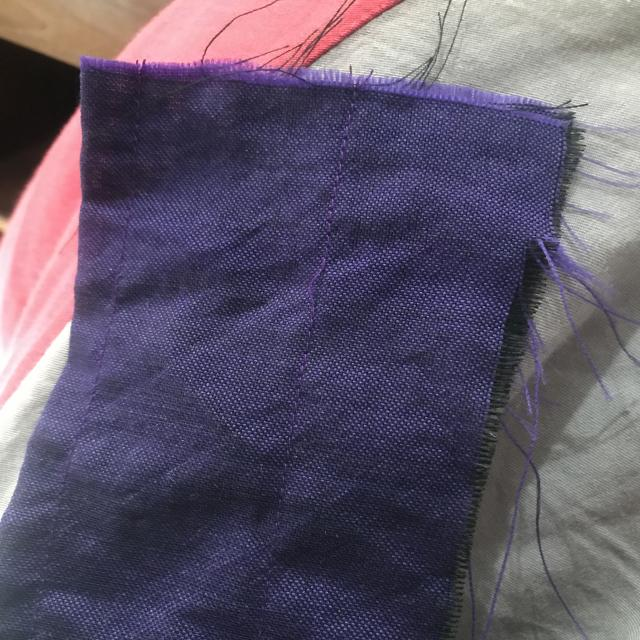good: (319, 131, 356, 213)
skip: (282, 245, 348, 307)
